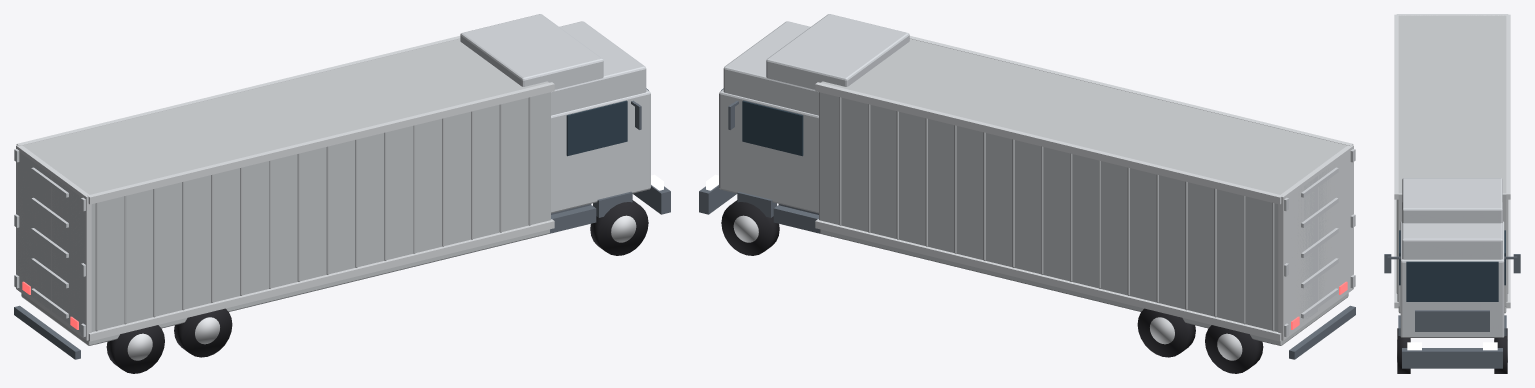
The model's file is truck_hi.glb.
3 renders of one model, left to right at view 1: azimuth 30°, elevation 25°; view 2: azimuth 150°, elevation 25°; view 3: azimuth 270°, elevation 25°, orthographic. The views are drawn at different scales.
Parts seen in each view (by area): view 1: Truck01_Box, Truck01_Cab, Truck01_Trim, Truck01_RearDoors, Truck01_Wheels, Truck01_Glass, Truck01_Details, Truck01_Hubs, Truck01_Chassis, Truck01_Bumper; view 2: Truck01_Box, Truck01_Trim, Truck01_Cab, Truck01_Wheels, Truck01_RearDoors, Truck01_Glass, Truck01_Details, Truck01_Hubs, Truck01_Chassis, Truck01_Bumper; view 3: Truck01_Box, Truck01_Cab, Truck01_Glass, Truck01_Trim, Truck01_Details, Truck01_Bumper, Truck01_Wheels, Truck01_Lights.
Boxes of the visible parts, x1,y1,x2,y2 form: Truck01_Box: [21, 38, 550, 345]; Truck01_Cab: [460, 14, 650, 213]; Truck01_Trim: [16, 36, 554, 341]; Truck01_RearDoors: [14, 149, 85, 336]; Truck01_Wheels: [106, 200, 648, 373]; Truck01_Glass: [566, 88, 648, 156]; Truck01_Details: [14, 100, 641, 359]; Truck01_Hubs: [127, 215, 636, 360]; Truck01_Chassis: [97, 204, 596, 344]; Truck01_Bumper: [633, 185, 670, 214]; Truck01_Box: [819, 38, 1348, 345]; Truck01_Trim: [815, 36, 1353, 341]; Truck01_Cab: [719, 14, 909, 213]; Truck01_Wheels: [721, 200, 1263, 373]; Truck01_RearDoors: [1284, 149, 1355, 336]; Truck01_Glass: [721, 88, 803, 156]; Truck01_Details: [728, 100, 1355, 359]; Truck01_Hubs: [733, 215, 1242, 360]; Truck01_Chassis: [773, 204, 1272, 344]; Truck01_Bumper: [699, 185, 736, 214]; Truck01_Box: [1396, 15, 1508, 313]; Truck01_Cab: [1400, 178, 1504, 337]; Truck01_Glass: [1399, 230, 1505, 301]; Truck01_Trim: [1394, 14, 1510, 308]; Truck01_Details: [1384, 254, 1520, 335]; Truck01_Bumper: [1402, 348, 1502, 368]; Truck01_Wheels: [1397, 328, 1507, 373]; Truck01_Lights: [1407, 342, 1497, 350].
Size of the model in its own units: 12.35 by 3.93 by 3.1.
